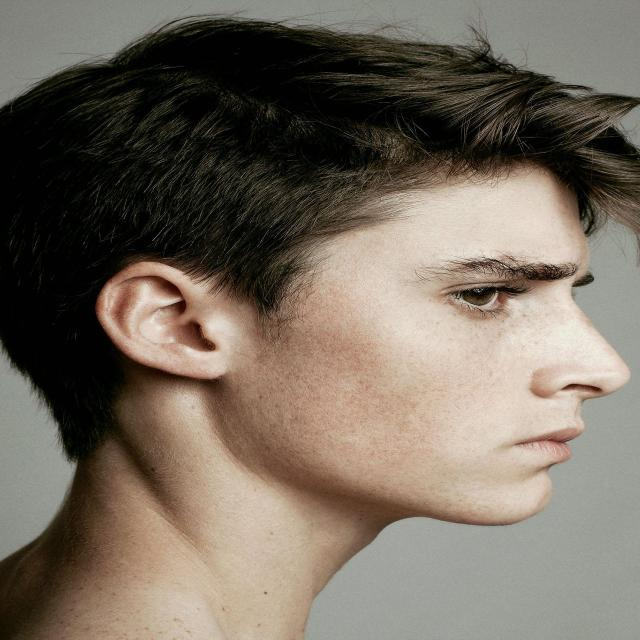front: (355, 217, 640, 518)
